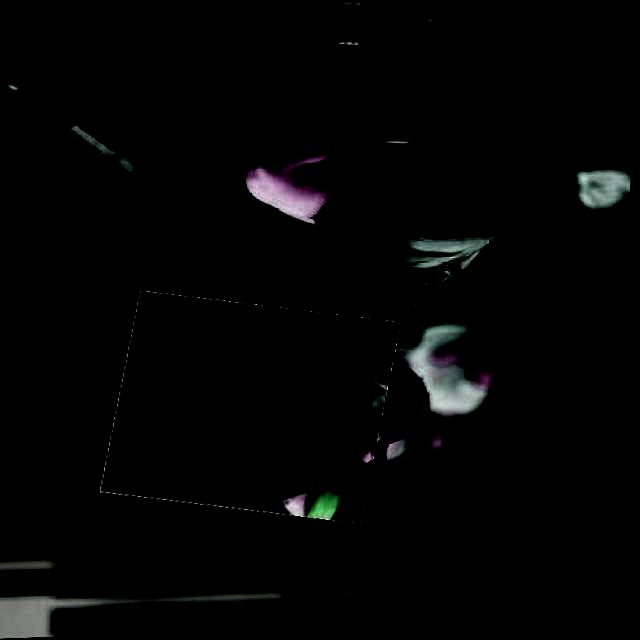barbell: (111, 295, 397, 525)
